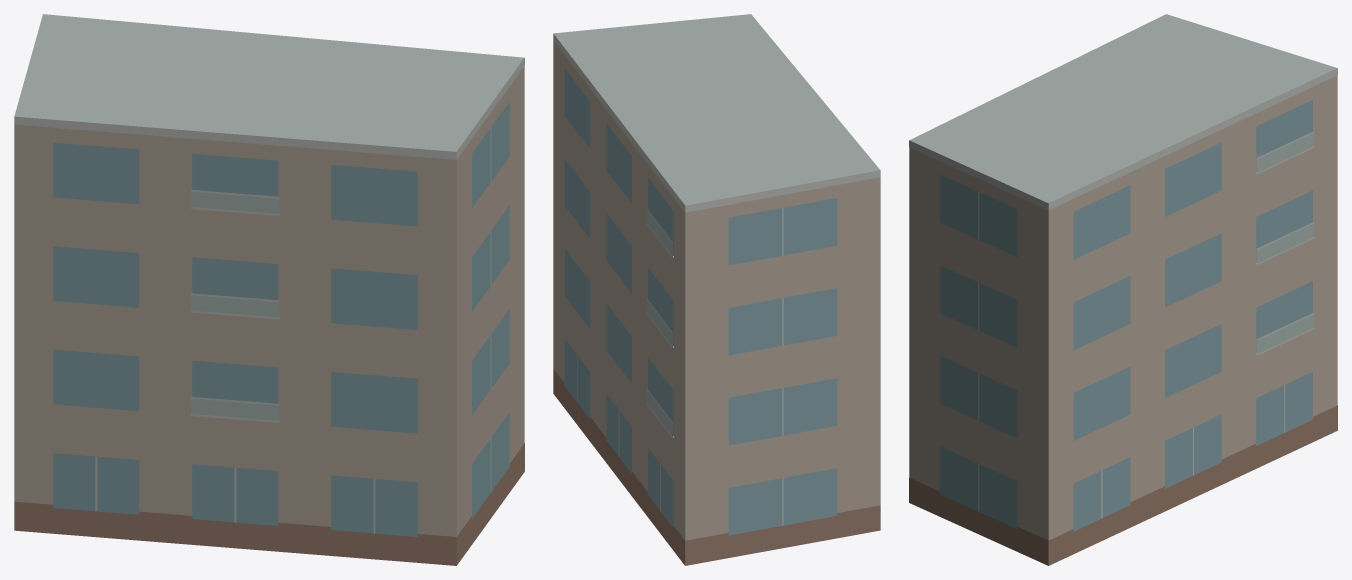
Rendered from survey-upis-32778330.glb.
3 views of the same model, side by side, from view 1: azimuth 30°, elevation 25°; view 2: azimuth 150°, elevation 25°; view 3: azimuth 270°, elevation 25° (orthographic). The views are drawn at different scales.
Visible parts, largest first — view 1: survey-upis-32778330.tmp; view 2: survey-upis-32778330.tmp; view 3: survey-upis-32778330.tmp.
Part boxes in pixels (x1,y1,x2,y2): survey-upis-32778330.tmp: (14, 14, 524, 565); survey-upis-32778330.tmp: (553, 14, 880, 565); survey-upis-32778330.tmp: (909, 14, 1337, 565).
Bounding box in the file's own units: 14.01 × 12.5 × 13.4.
